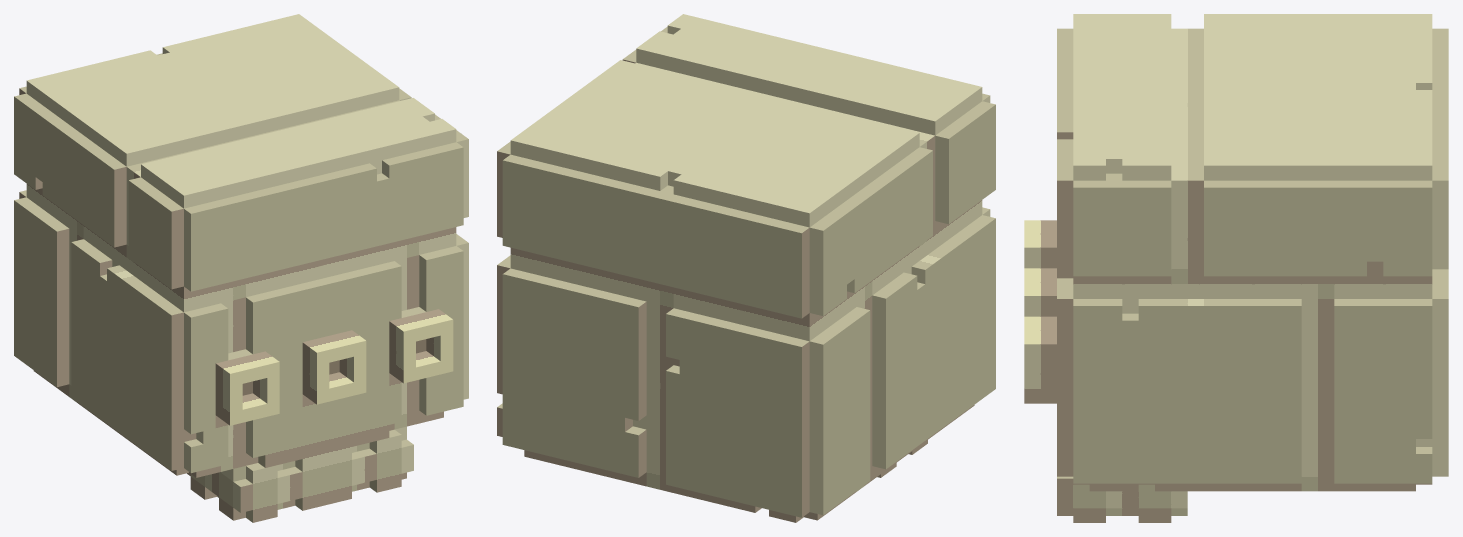
File: tri_skullao.fezao.glb
The picture shows the model from 3 angles, left to right: view 1: azimuth 30°, elevation 25°; view 2: azimuth 150°, elevation 25°; view 3: azimuth 270°, elevation 25°; orthographic projection. The views are drawn at different scales.
Parts seen in each view (by area): view 1: TRI_SKULLAO; view 2: TRI_SKULLAO; view 3: TRI_SKULLAO.
Part boxes in pixels (box(x1,y1,x2,y2)): TRI_SKULLAO: box(14, 14, 468, 522); TRI_SKULLAO: box(497, 14, 995, 522); TRI_SKULLAO: box(1024, 14, 1448, 522).
Bounding box in the file's own units: 1.5 × 1.62 × 1.62.
Materials: 1 (1 with a texture image).
